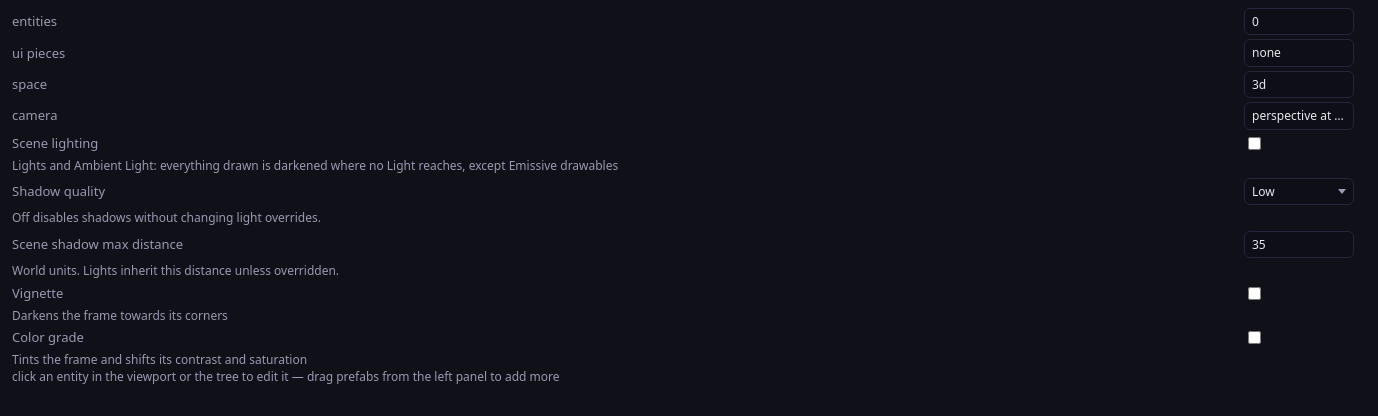
Scenario: CA-11: a rejected quality edit reports the capacity error and keeps the last committed policy
Select "High" in the dropdown labelled "Shadow quality" at (1299, 192), box 1244,178 -> 1354,205
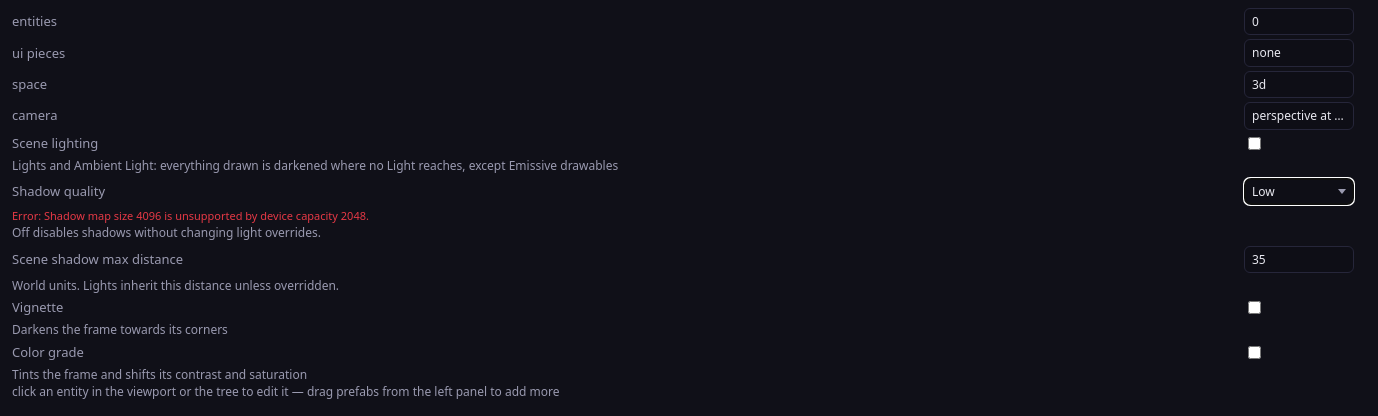
Expected: the number field labelled "Scene shadow max distance" holds "35", 1244,246 -> 1354,273
Result: the message shows "Shadow map size 4096 is unsupported by device capacity 2048." at 44,208 -> 369,223
Result: the text "device capacity 2048" is shown at 44,208 -> 369,223
Select "Medium" in the dropdown labelled "Shadow quality" at (1299, 192), box 1244,178 -> 1354,205
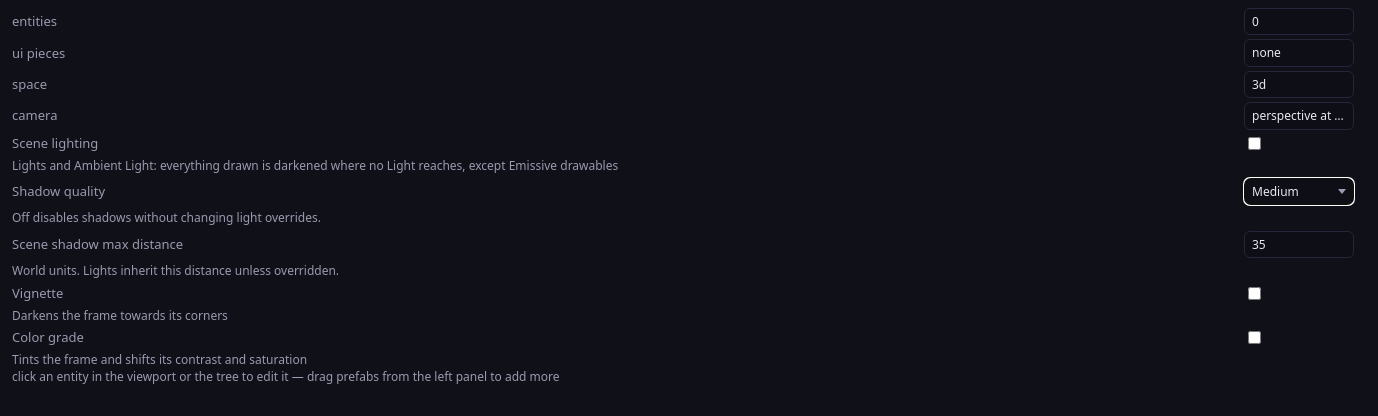
Result: the message "Error: Shadow map size 4096 is unsupported by device capacity 2048." is gone
